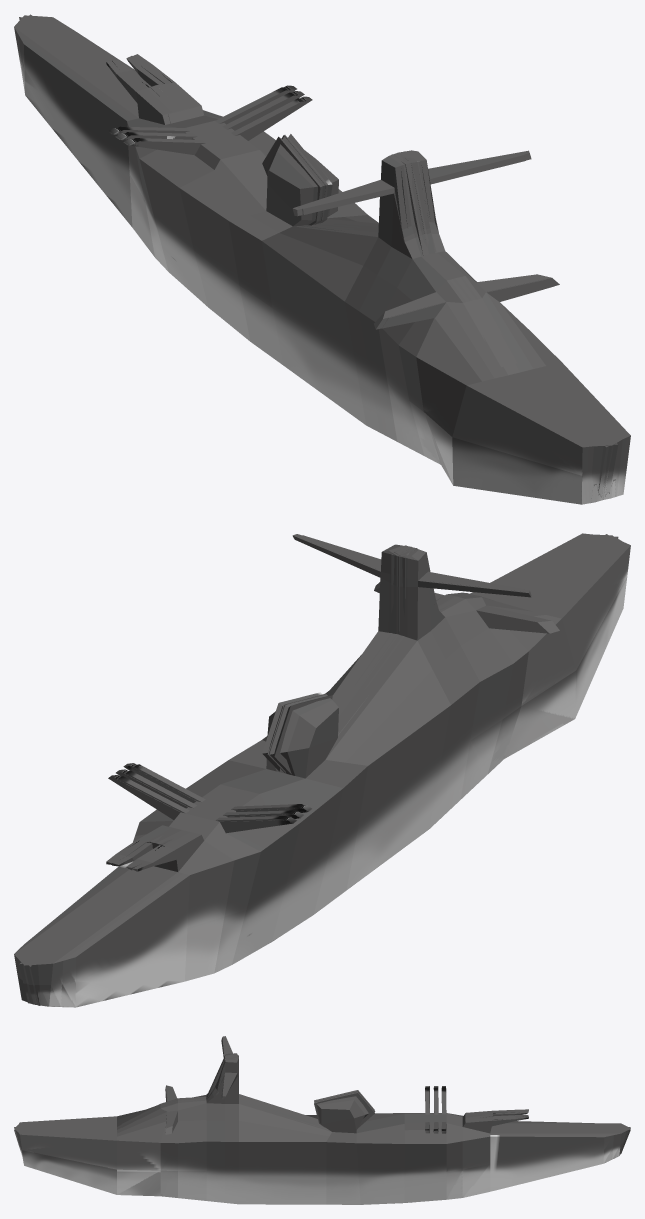
Rendered from battleship-edit2.gltf.
3 views of the same model, one above another, from view 1: azimuth 30°, elevation 25°; view 2: azimuth 150°, elevation 25°; view 3: azimuth 270°, elevation 25° (orthographic). The views are drawn at different scales.
Parts seen in each view (by area): view 1: Cube; view 2: Cube; view 3: Cube.
Boxes of the visible parts, x1,y1,x2,y2 form: Cube: [14, 14, 630, 504]; Cube: [14, 533, 630, 1007]; Cube: [14, 1036, 630, 1204].
Bounding box in the file's own units: 1.95 × 2.1 × 8.37.
Materials: 1 (1 with a texture image).
